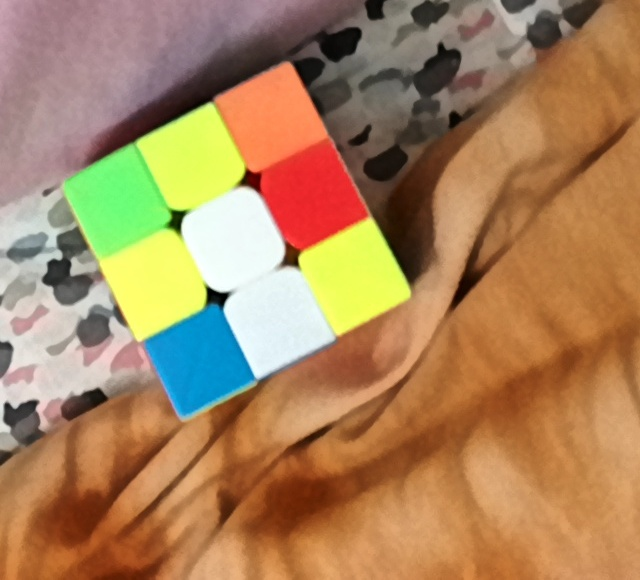tile: (239, 87, 302, 150), (245, 290, 310, 350), (122, 252, 185, 313), (325, 245, 386, 307), (165, 129, 224, 193), (281, 164, 341, 226), (86, 176, 146, 235), (169, 332, 228, 391), (204, 211, 262, 271)
